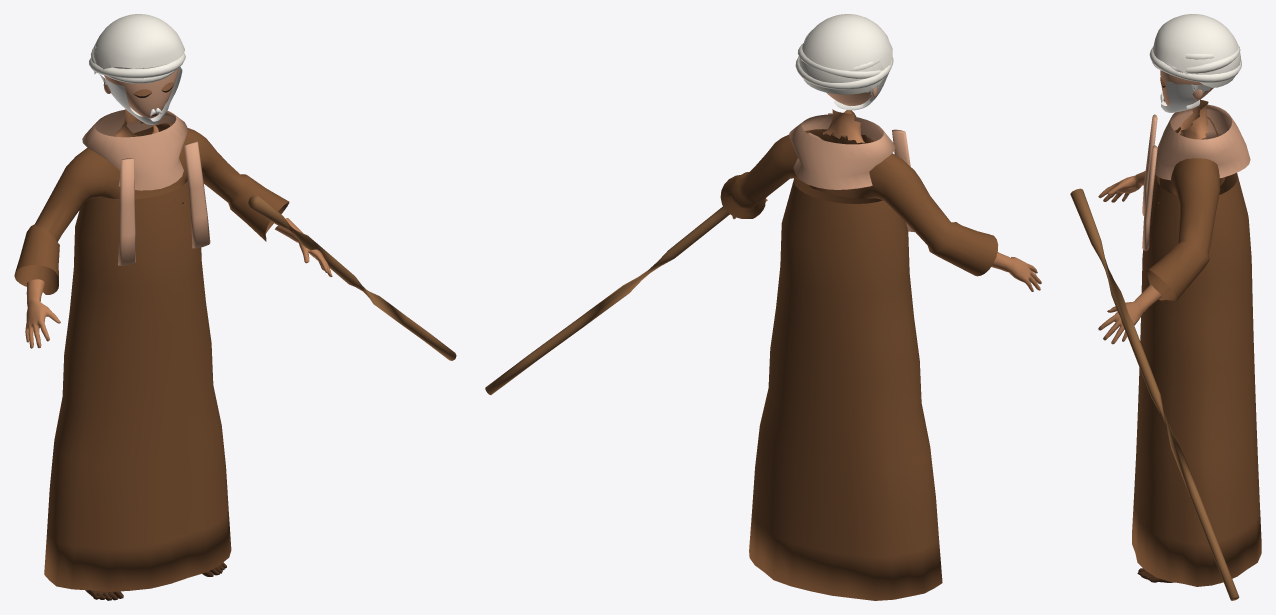
File: farmer.fbx
3 views of the same model, side by side, from view 1: azimuth 30°, elevation 25°; view 2: azimuth 150°, elevation 25°; view 3: azimuth 270°, elevation 25° (orthographic). The views are drawn at different scales.
Visible parts, largest first — view 1: farmer_mixamo; view 2: farmer_mixamo; view 3: farmer_mixamo.
Boxes of the visible parts, x1,y1,x2,y2 form: farmer_mixamo: (14, 14, 456, 600); farmer_mixamo: (485, 14, 1041, 600); farmer_mixamo: (1070, 14, 1261, 600).
Size of the model in its own units: 1.61 by 1.74 by 0.5636.
